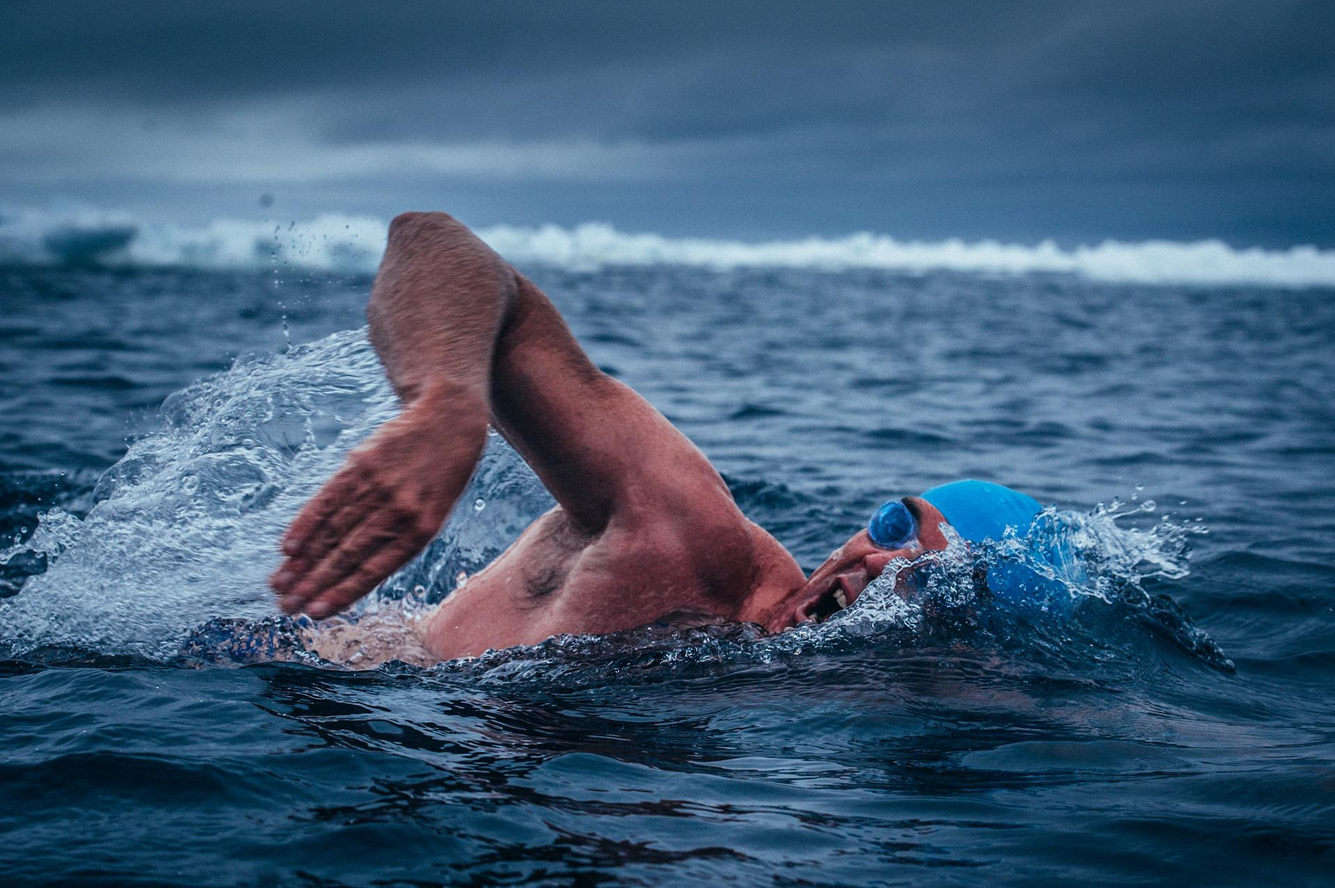human: (272, 215, 1108, 691)
